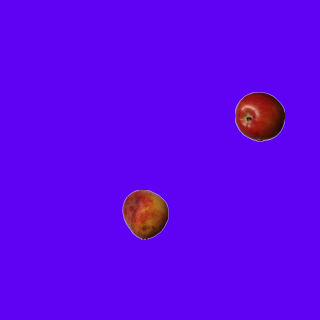Apple Braeburn: (234, 91, 284, 141)
Peach: (120, 189, 170, 239)
